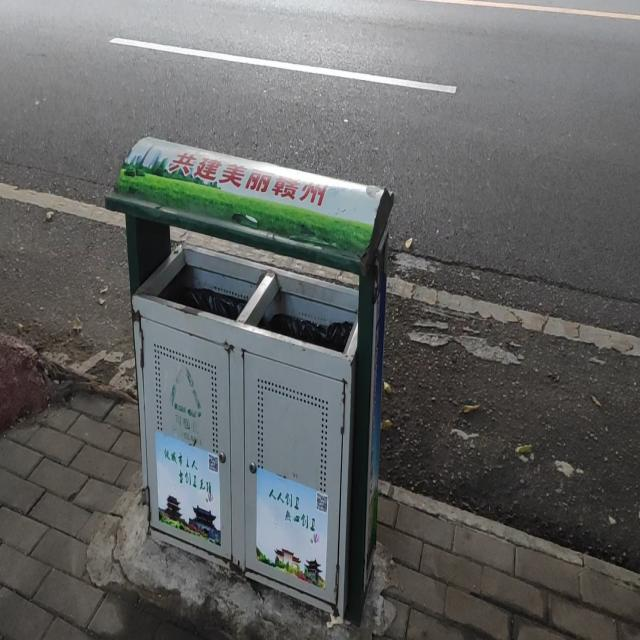ash bin: (104, 136, 400, 636)
